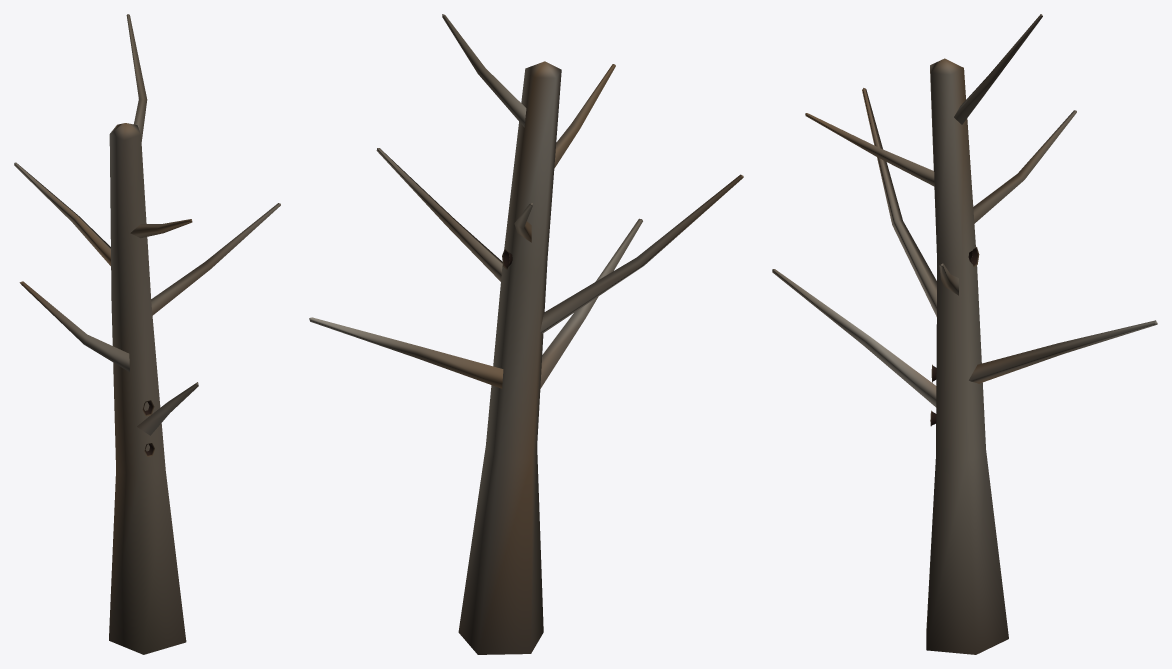
File: snag-a.lod2.glb
3 views of the same model, side by side, from view 1: azimuth 30°, elevation 25°; view 2: azimuth 150°, elevation 25°; view 3: azimuth 270°, elevation 25° (orthographic). The views are drawn at different scales.
Bounding box in the file's own units: 3.59 × 6.85 × 3.77.
